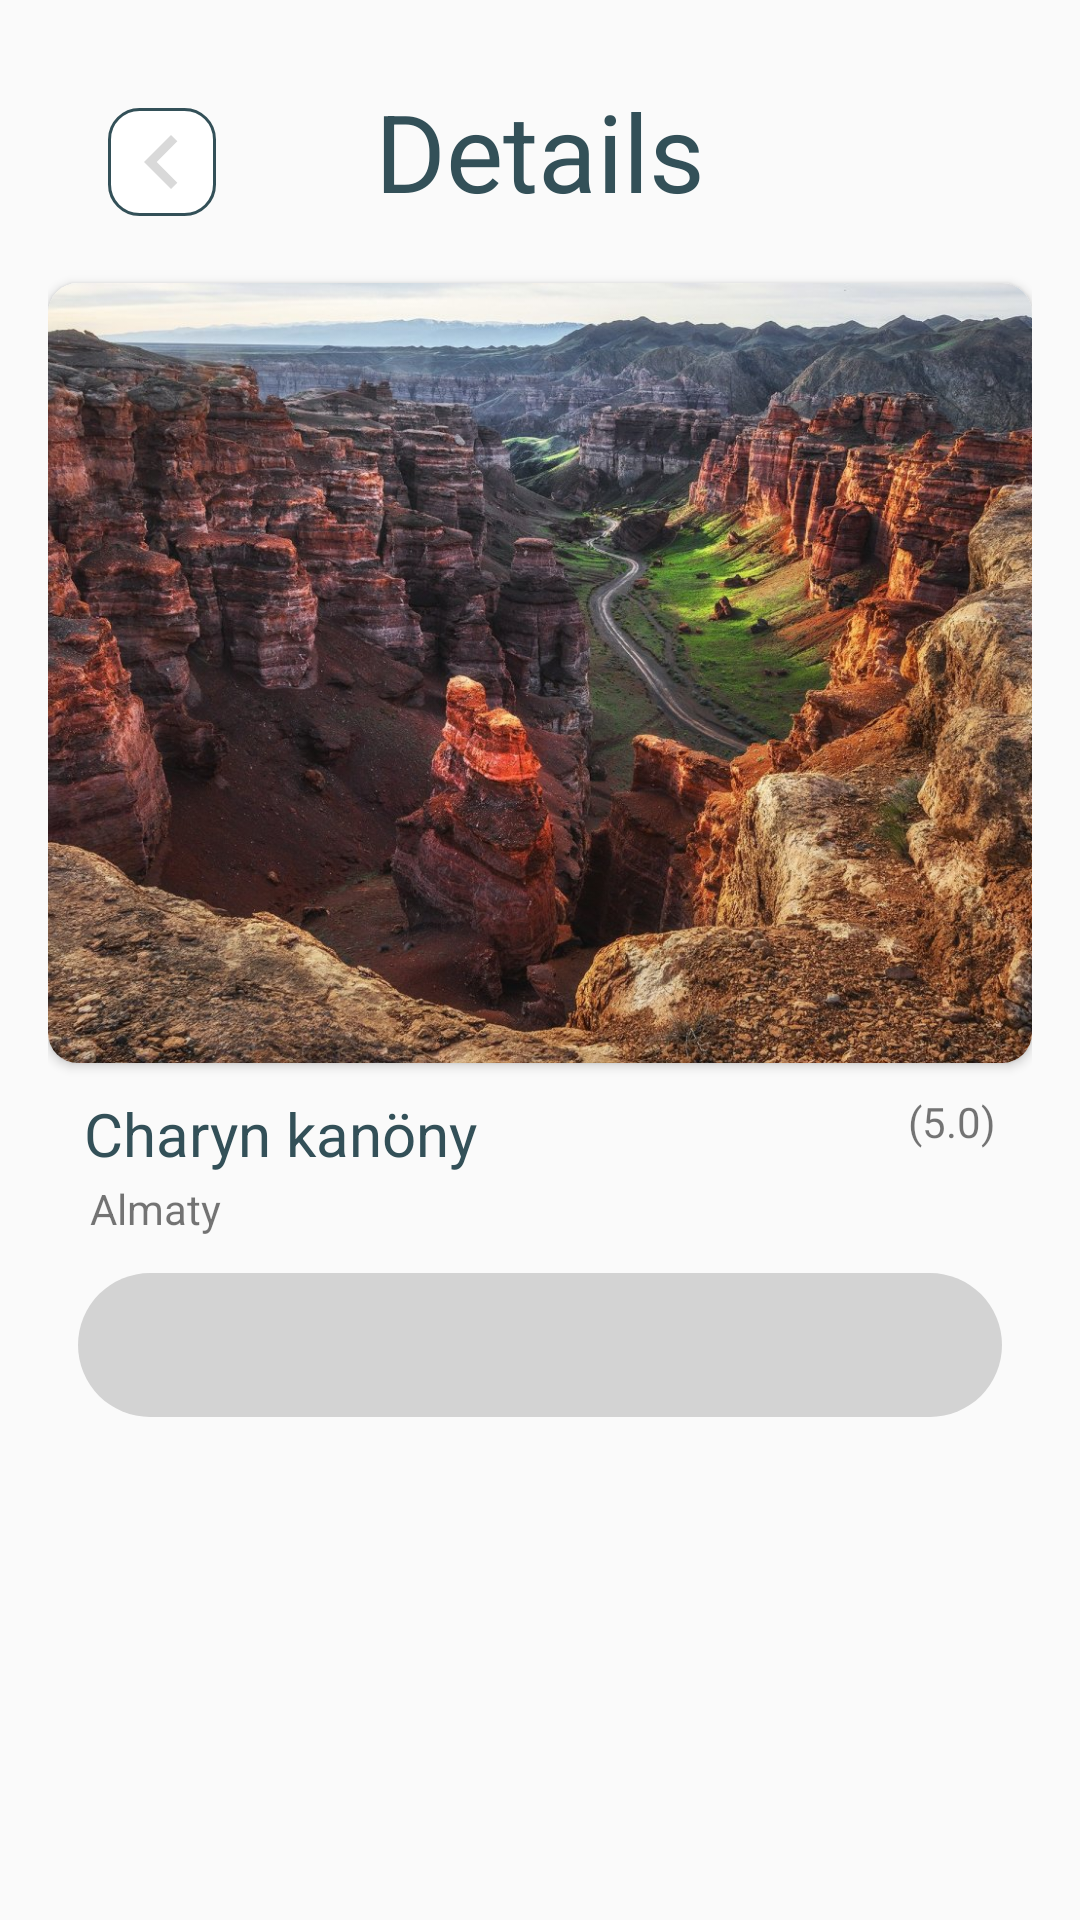

Where icons sit on this 1080 x 1920 app screen, as detection(x1, y1, x2, y2):
back: detection(108, 108, 216, 216)
